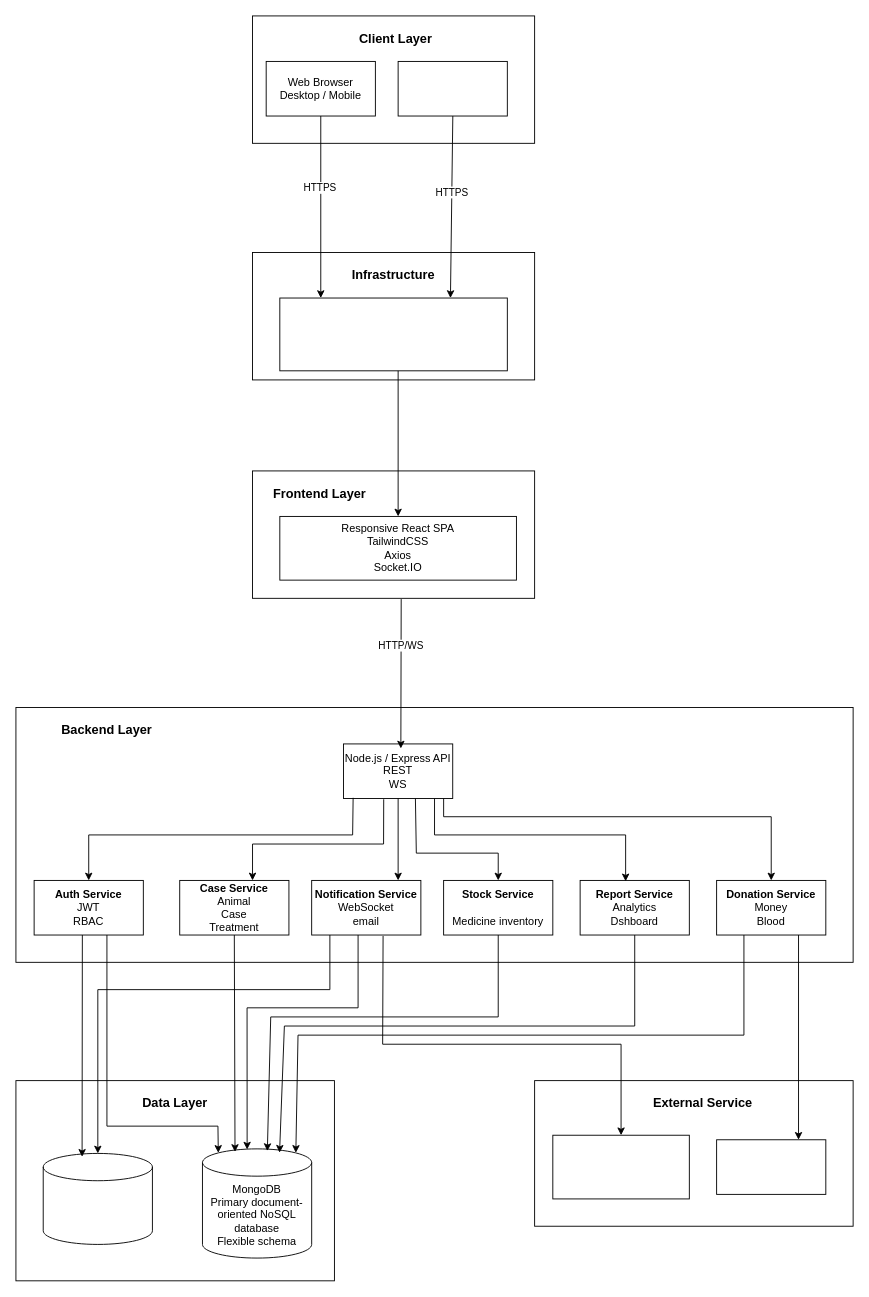
This 869x1297 diagram has some shape labels left out. Each missing label, with the centre of its shape:
Mobile Browser: pixel 452 88
Nginx Reverse Proxy SSL terminal static files routing: pixel 393 334
Payment Gateway: pixel 771 1166
Redis Cache JWT blacklist pub/sub: pixel 97 1198
SMTP Provider SendGrid Password reset Donation email: pixel 620 1166
